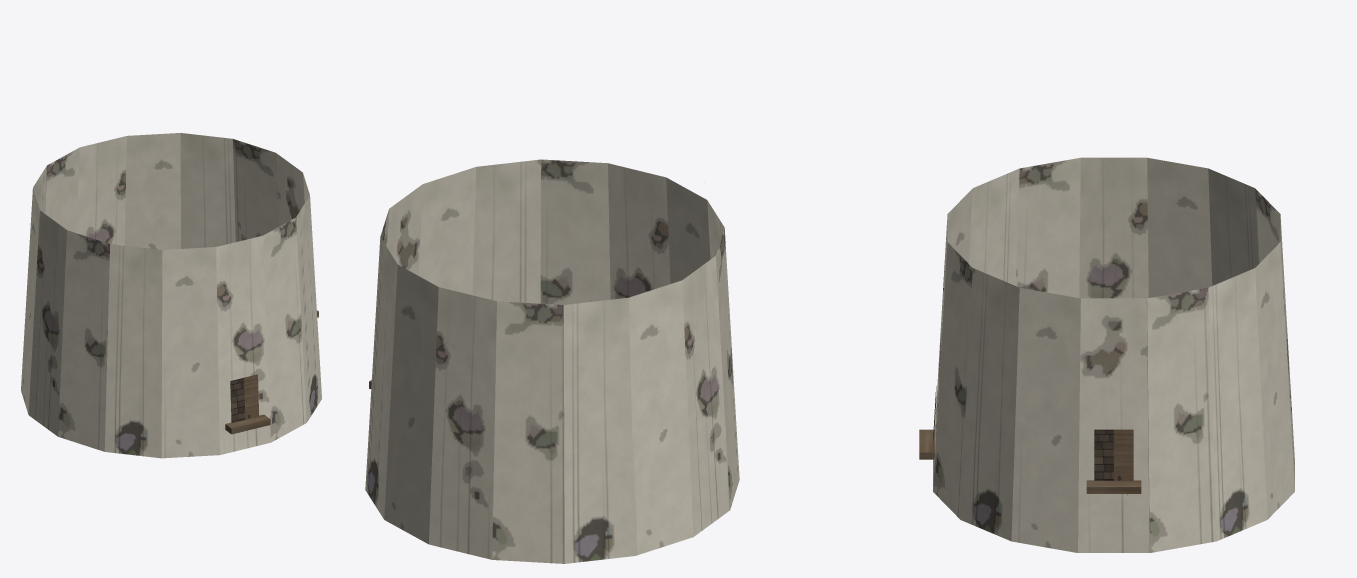
Rendered from moulin_corps_1.obj.
3 views of the same model, side by side, from view 1: azimuth 30°, elevation 25°; view 2: azimuth 150°, elevation 25°; view 3: azimuth 270°, elevation 25° (orthographic). The views are drawn at different scales.
Visible parts, largest first — view 1: corps; view 2: corps; view 3: corps.
Boxes of the visible parts, bbox=[...] form: corps: bbox=[21, 133, 321, 458]; corps: bbox=[365, 159, 739, 563]; corps: bbox=[919, 157, 1294, 552].
Bounding box in the file's own units: 5.84 × 8.64 × 8.67.
